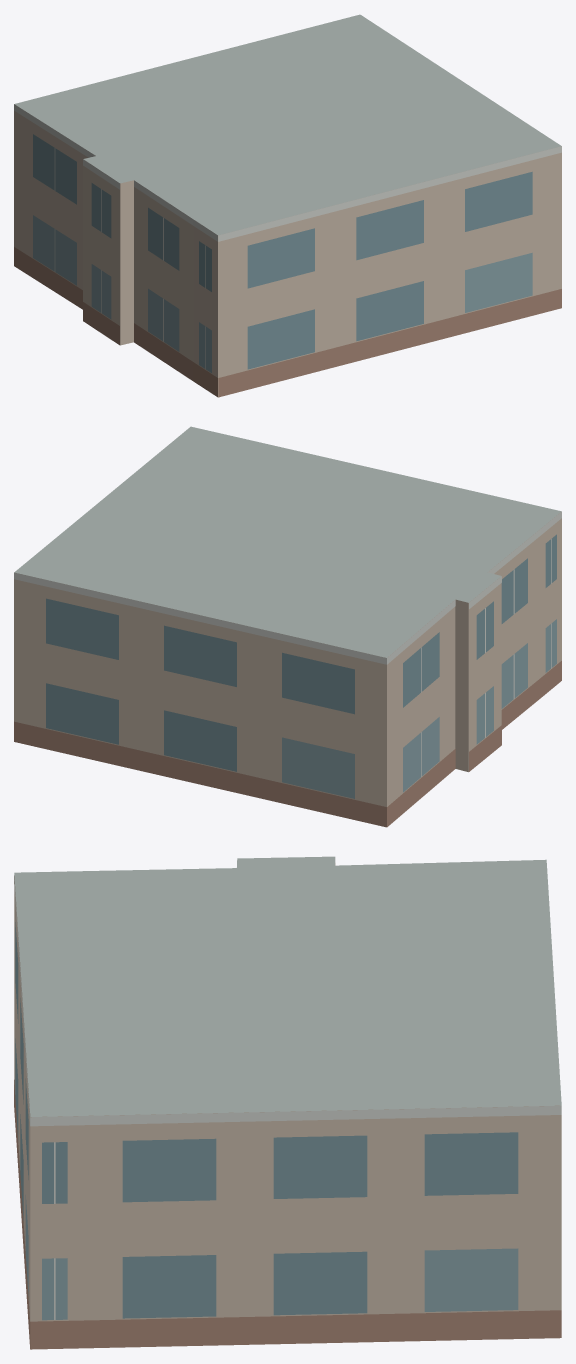
File: survey-upis-32987440.glb
The picture shows the model from 3 angles, top to bottom: view 1: azimuth 30°, elevation 25°; view 2: azimuth 150°, elevation 25°; view 3: azimuth 270°, elevation 25°; orthographic projection. The views are drawn at different scales.
Parts seen in each view (by area): view 1: survey-upis-32987440.tmp; view 2: survey-upis-32987440.tmp; view 3: survey-upis-32987440.tmp.
Boxes of the visible parts, x1=… form: survey-upis-32987440.tmp: x1=14, y1=14, x2=561, y2=397; survey-upis-32987440.tmp: x1=14, y1=426, x2=561, y2=827; survey-upis-32987440.tmp: x1=14, y1=856, x2=561, y2=1349.
Size of the model in its own units: 14.68 by 6.1 by 13.04.
